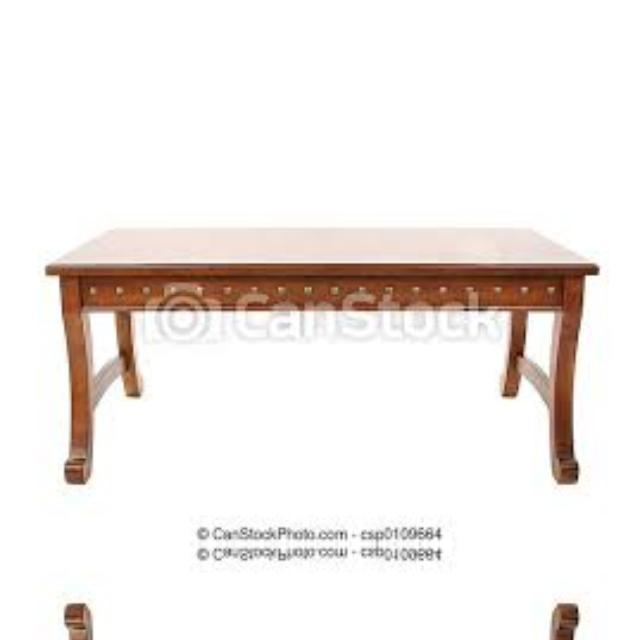obstacle: (41, 177, 613, 459), (41, 0, 613, 15), (41, 627, 613, 640)
